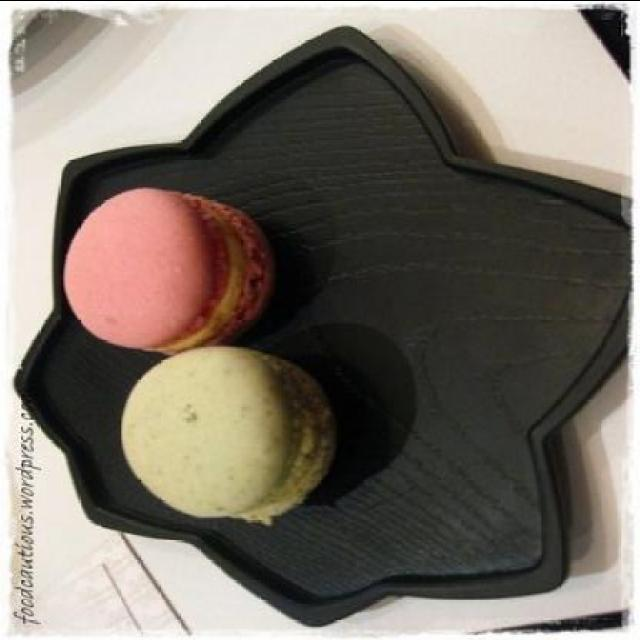Macaron: (60, 168, 343, 534)
